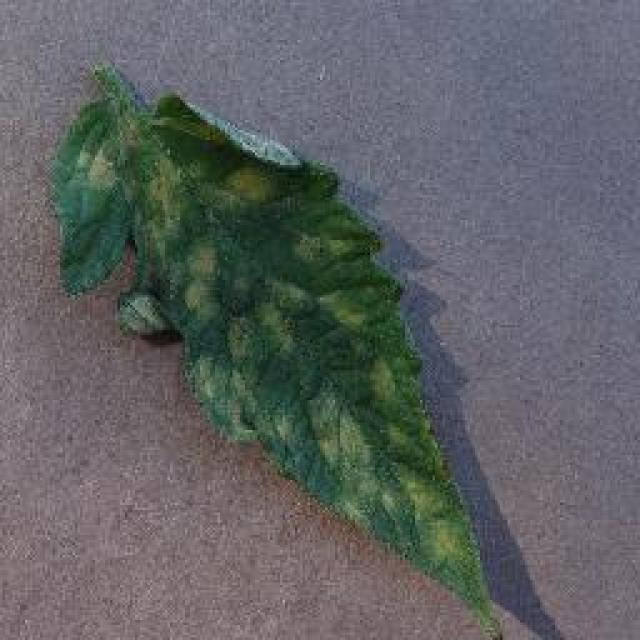Tomato___Leaf_Mold: (48, 62, 500, 638)
